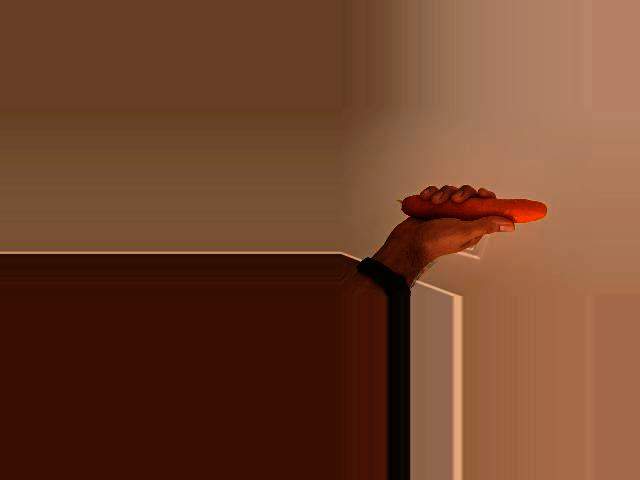carrot: (397, 194, 551, 225)
